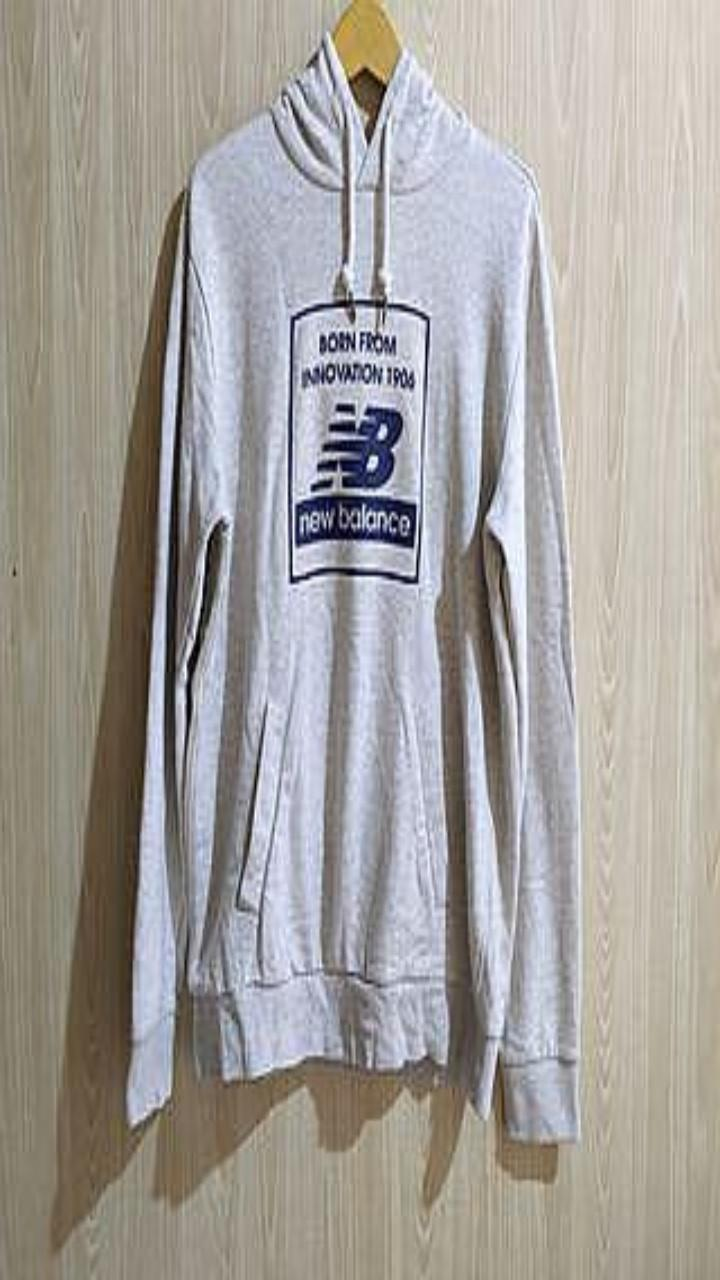Hoodie: (127, 30, 580, 1140)
